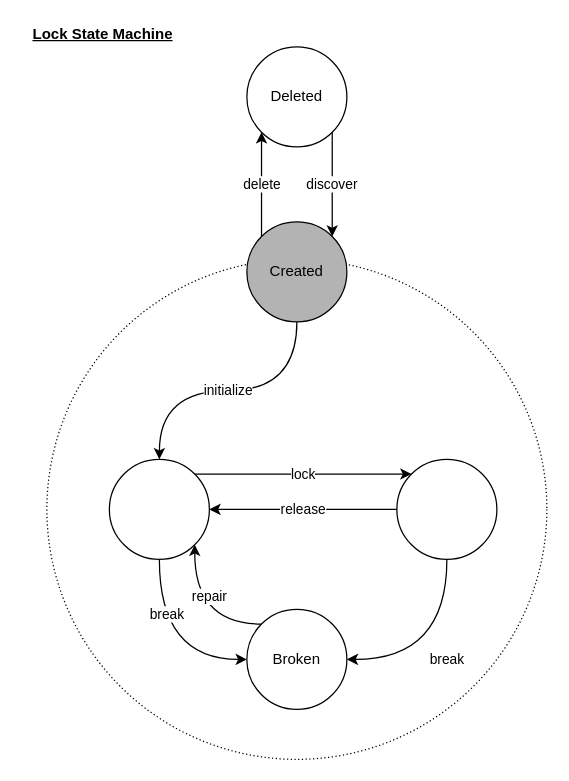
Some shapes in this 569 by 781 pixel diagram are drawn without their labels. The shapes that lost their labels are listed below. From the top down, each one's centre as x and y in pixels, then its label:
(x=158, y=508): Unlocked
(x=446, y=508): Locked
